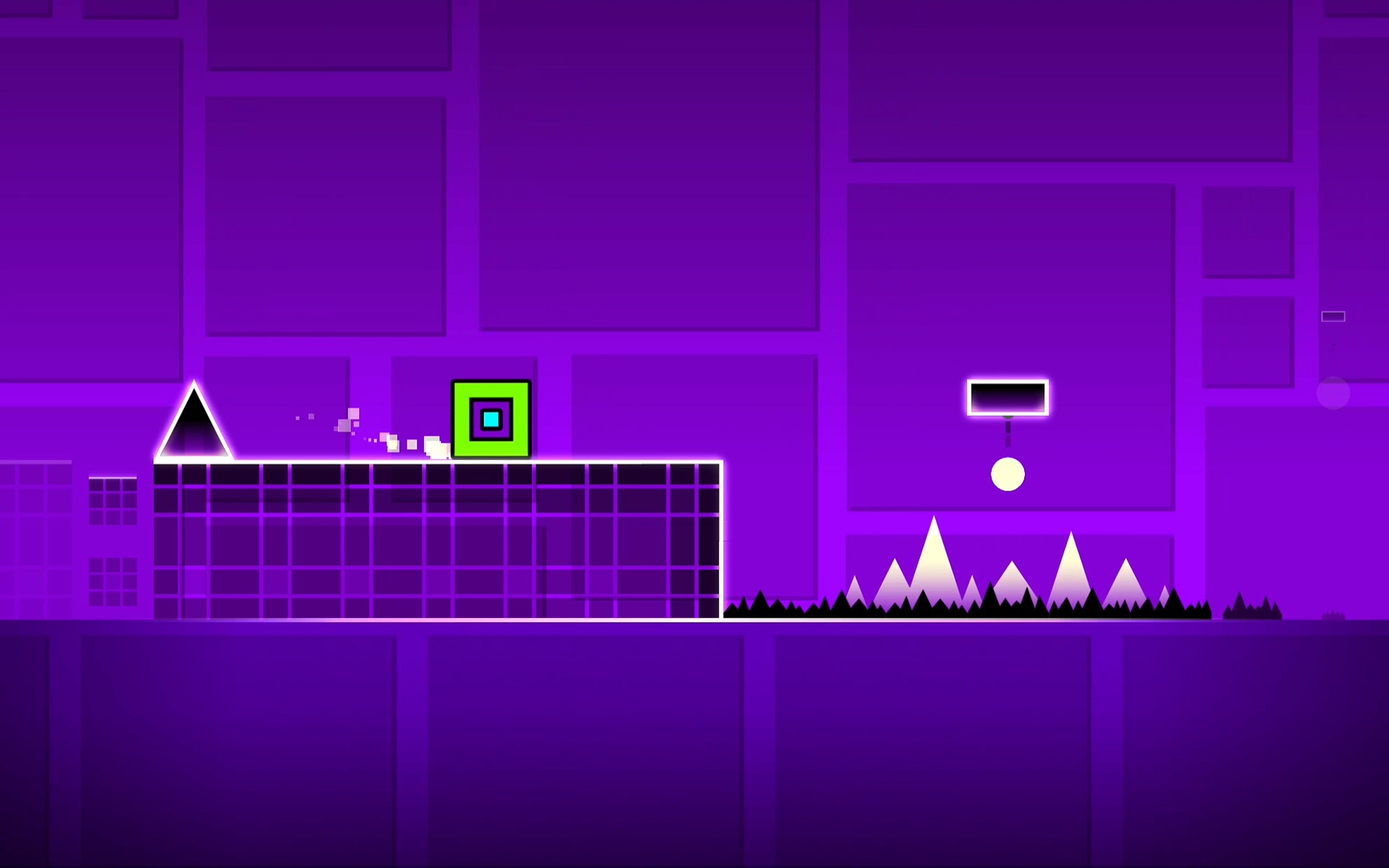Block2: (148, 460, 723, 615)
Block3: (966, 378, 1050, 415)
Player: (449, 380, 532, 457)
Spike: (156, 380, 232, 459)
Spike3: (722, 584, 1326, 622)
